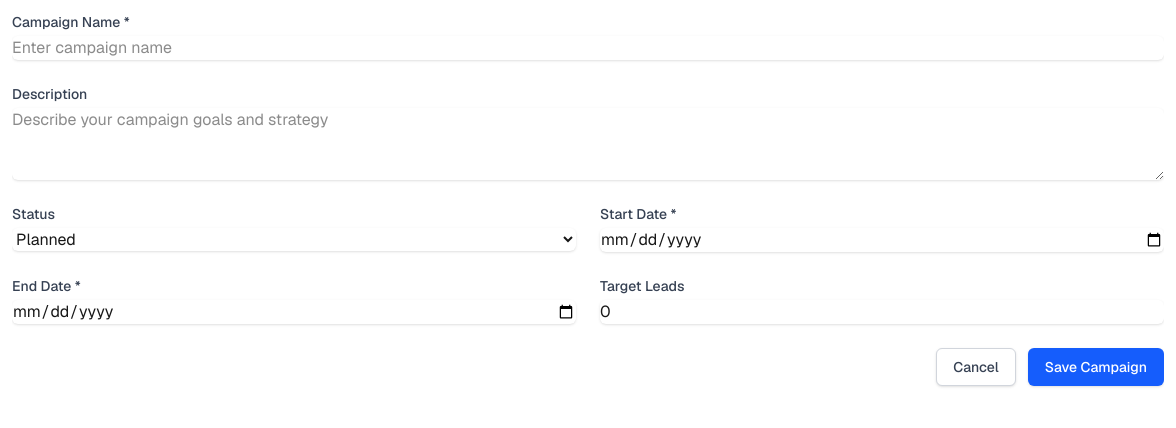
Test: CampaignForm › validates date range
# Fill in required fields
In the field labelled "Campaign Name *": [588, 48] box 12,36 -> 1164,60, type "Test Campaign"
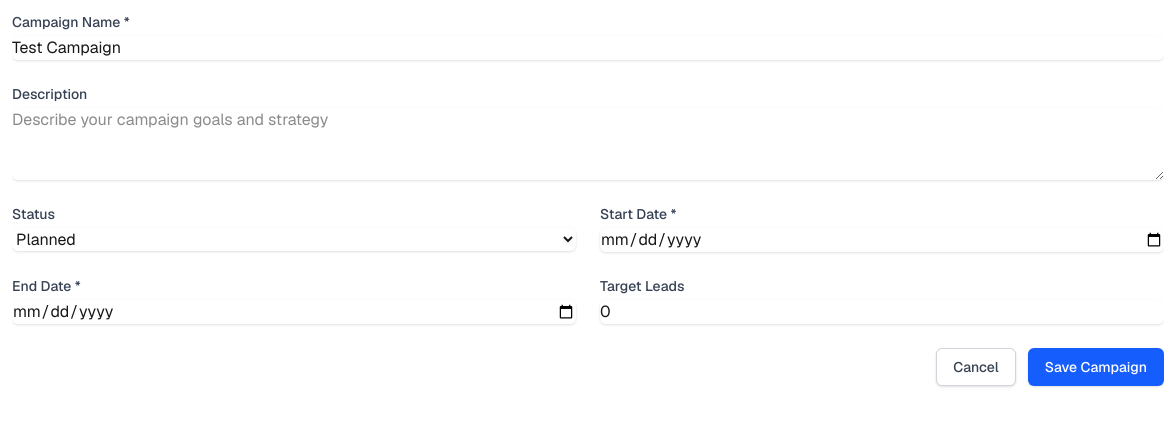
# Set end date before start date
In the date field labelled "Start Date *": [882, 240] box 600,228 -> 1164,252, type "2025-03-01"
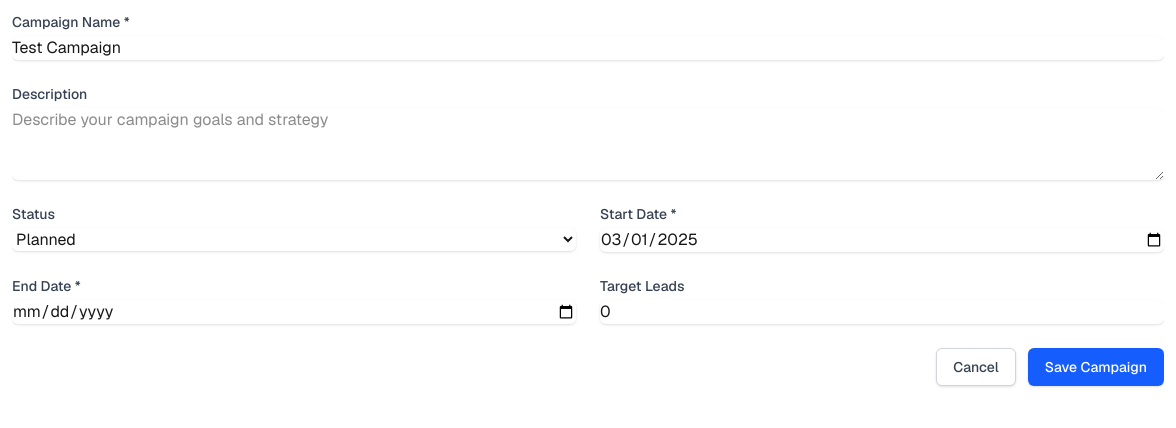
In the date field labelled "End Date *": [294, 312] box 12,300 -> 576,324, type "2025-02-01"
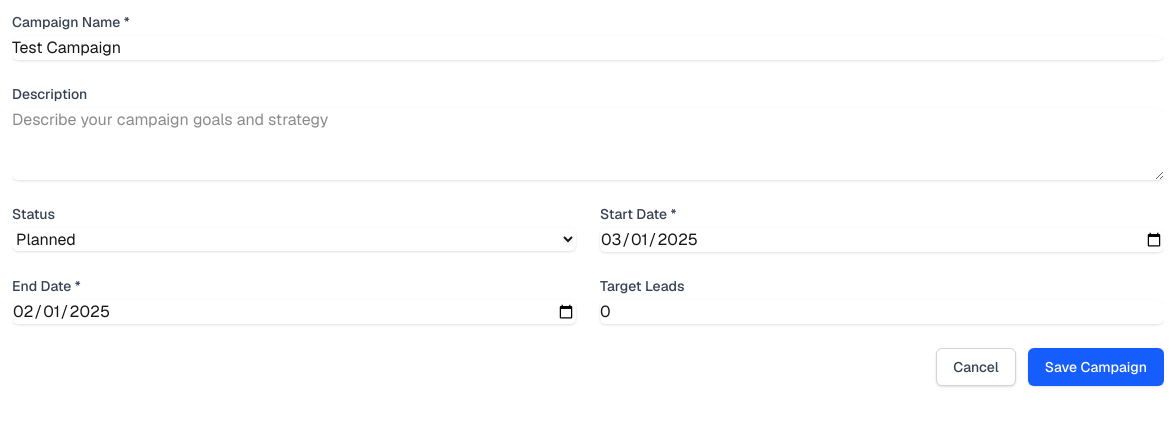
Submit the form with test id "campaign-form"
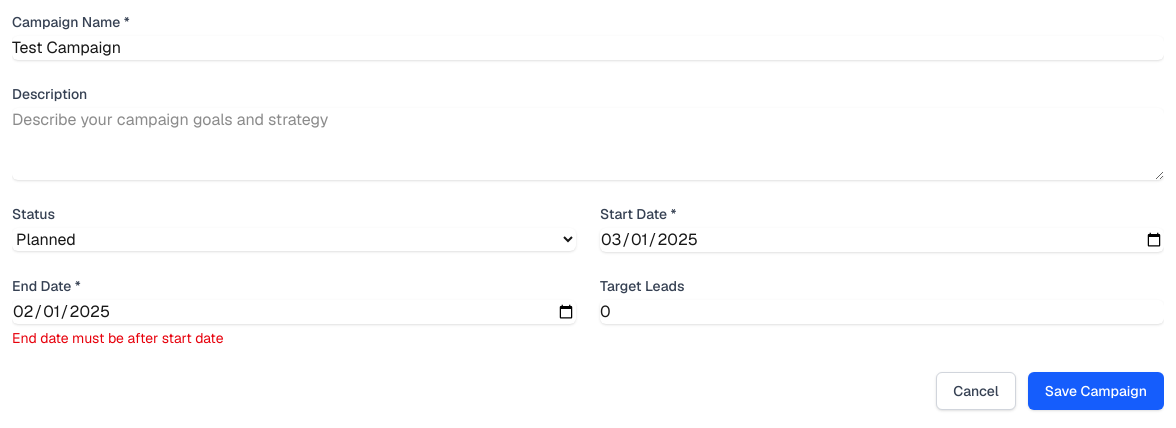
Result: the text "End date must be after start date" is shown at 12,329 -> 224,347
